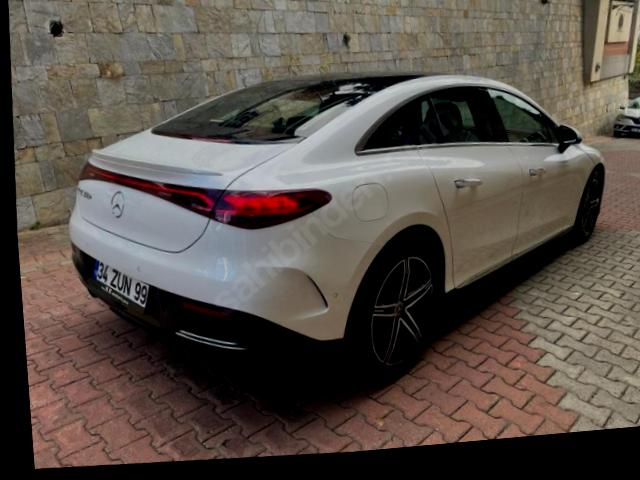plaka: (91, 259, 156, 313)
